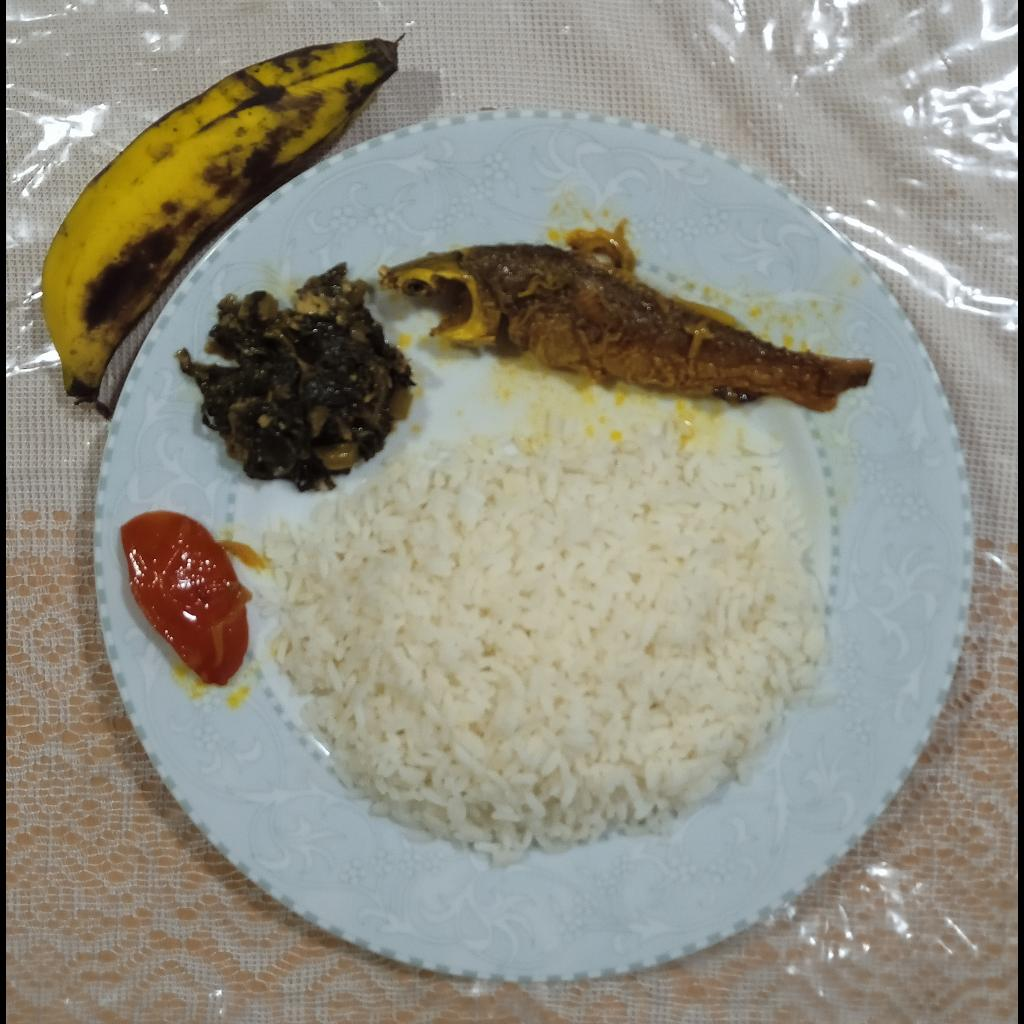banana: (44, 40, 398, 399)
fish: (386, 243, 877, 412)
rice: (257, 363, 829, 860)
shak: (186, 264, 415, 486)
tomato: (125, 507, 249, 688)
